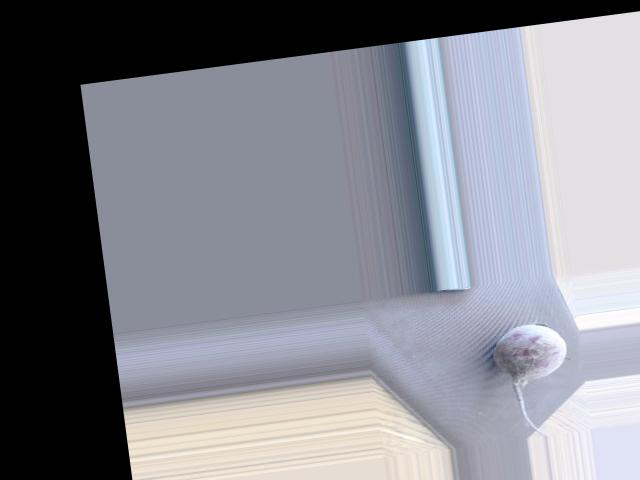beet: (490, 320, 576, 441)
